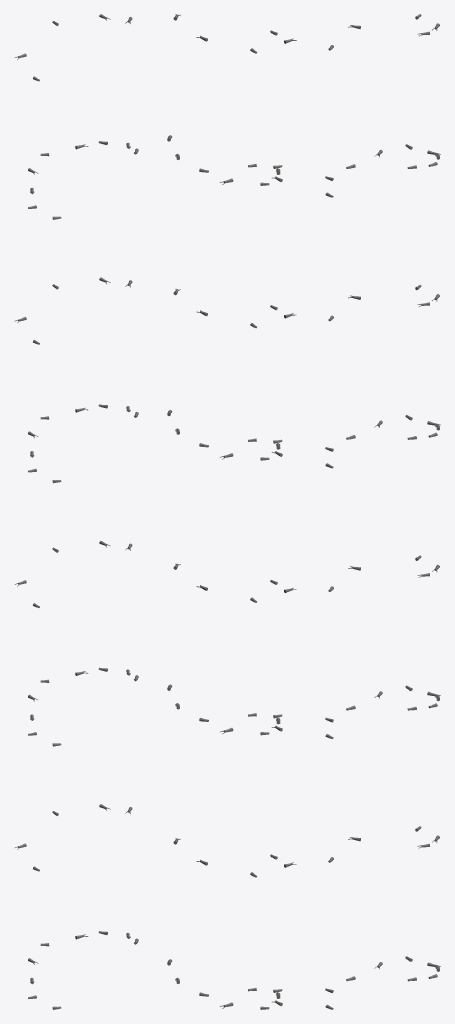
Rendered from Circle3Folk1.obj.
3 views of the same model, side by side, from view 1: azimuth 30°, elevation 25°; view 2: azimuth 210°, elevation 25°; view 3: azimuth 330°, elevation 25° (orthographic). The views are drawn at different scales.
Visible parts, largest first — view 1: Circle3Folk1; view 2: Circle3Folk1; view 3: Circle3Folk1.
Part boxes in pixels (left/top/right/bottom): Circle3Folk1: left=14, top=14, right=138, bottom=1009; Circle3Folk1: left=167, top=14, right=296, bottom=1009; Circle3Folk1: left=325, top=14, right=440, bottom=1009.
Size of the model in its own units: 29.21 by 256 by 23.01.
1 material, 1 textured.
